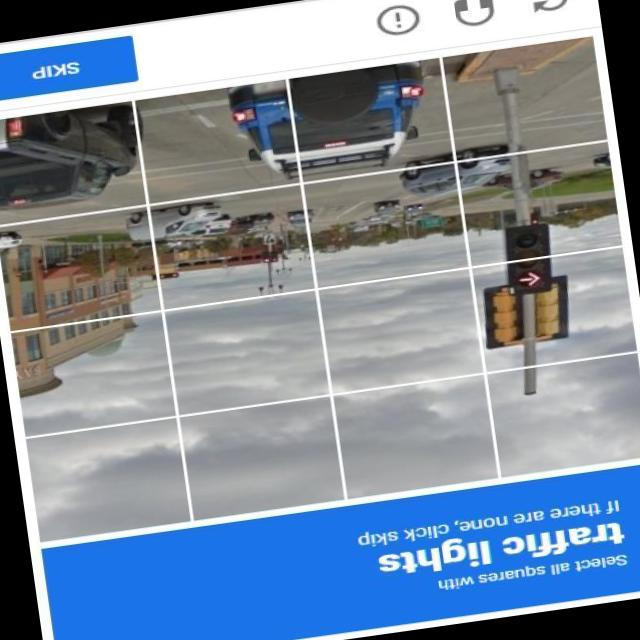red-lights: (503, 259, 549, 296)
